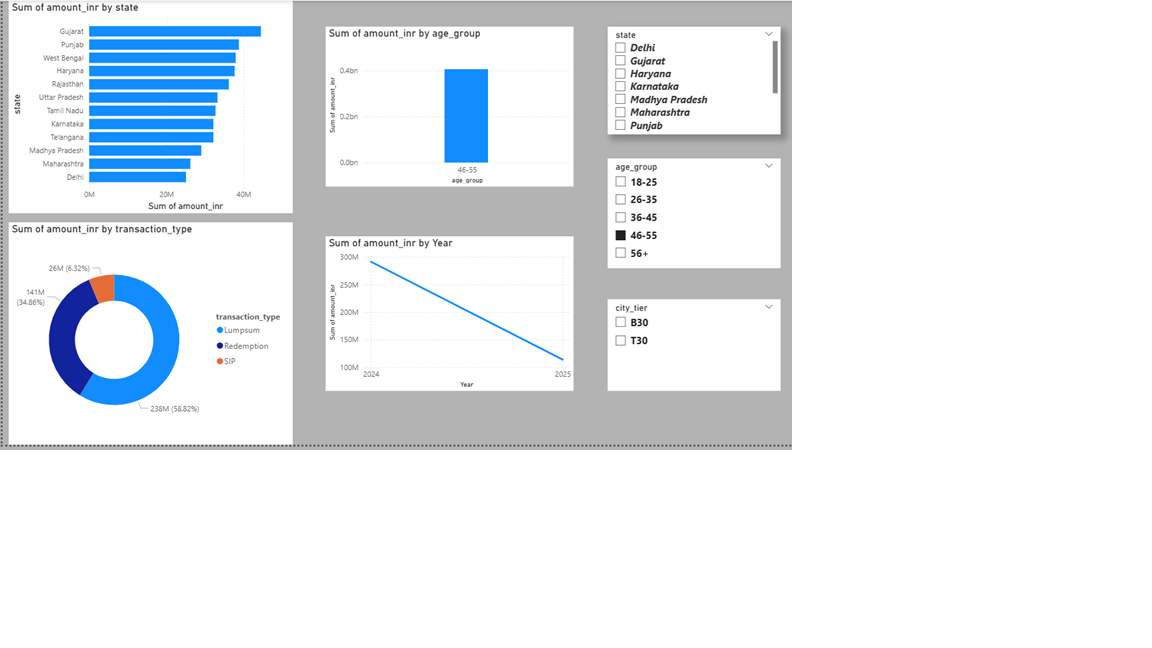

Layout of this report page (visuals, bound fields, positions):
{"tool":"powerbi","page":{"name":"Investor Analytics","canvas":[1280,720],"ordinal":2},"visuals":[{"type":"clusteredBarChart","fields":{"Category":["08_investor_transactions.state"],"Y":["Sum(08_investor_transactions.amount_inr)"]},"box":[9.7,0,459.9,344.9],"z":0},{"type":"donutChart","fields":{"Category":["08_investor_transactions.transaction_type"],"Y":["Sum(08_investor_transactions.amount_inr)"]},"box":[9.7,359.5,459.9,361.1],"z":1000},{"type":"clusteredColumnChart","fields":{"Category":["08_investor_transactions.age_group"],"Y":["Sum(08_investor_transactions.amount_inr)"]},"box":[523,42.1,401.6,259.1],"z":2000},{"type":"lineChart","fields":{"Category":["08_investor_transactions.transaction_date.Variation.Date Hierarchy.Year","08_investor_transactions.transaction_date.Variation.Date Hierarchy.Quarter","08_investor_transactions.transaction_date.Variation.Date Hierarchy.Month","08_investor_transactions.transaction_date.Variation.Date Hierarchy.Day"],"Y":["Sum(08_investor_transactions.amount_inr)"]},"box":[523,382.1,401.6,251],"z":3000},{"type":"slicer","fields":{"Values":["08_investor_transactions.state"]},"box":[979.6,42.1,280.1,174.9],"z":4000},{"type":"slicer","fields":{"Values":["08_investor_transactions.age_group"]},"box":[979.6,255.8,280.1,178.1],"z":5000},{"type":"slicer","fields":{"Values":["08_investor_transactions.city_tier"]},"box":[979.6,484.1,280.1,149],"z":6000}]}

Visuals, with their boxes in screenshot pixels (x1, y1, x2, y2), scaled from the page's 1280x720 canvas onto the 1152x648 screenshot:
clusteredBarChart - 08_investor_transactions.state x Sum(08_investor_transactions.amount_inr): bbox=(9, 0, 423, 310)
donutChart - 08_investor_transactions.transaction_type x Sum(08_investor_transactions.amount_inr): bbox=(9, 324, 423, 647)
clusteredColumnChart - 08_investor_transactions.age_group x Sum(08_investor_transactions.amount_inr): bbox=(471, 38, 832, 271)
lineChart - 08_investor_transactions.transaction_date.Variation.Date Hierarchy.Year x 08_investor_transactions.transaction_date.Variation.Date Hierarchy.Quarter: bbox=(471, 344, 832, 570)
slicer - 08_investor_transactions.state: bbox=(882, 38, 1134, 195)
slicer - 08_investor_transactions.age_group: bbox=(882, 230, 1134, 391)
slicer - 08_investor_transactions.city_tier: bbox=(882, 436, 1134, 570)
